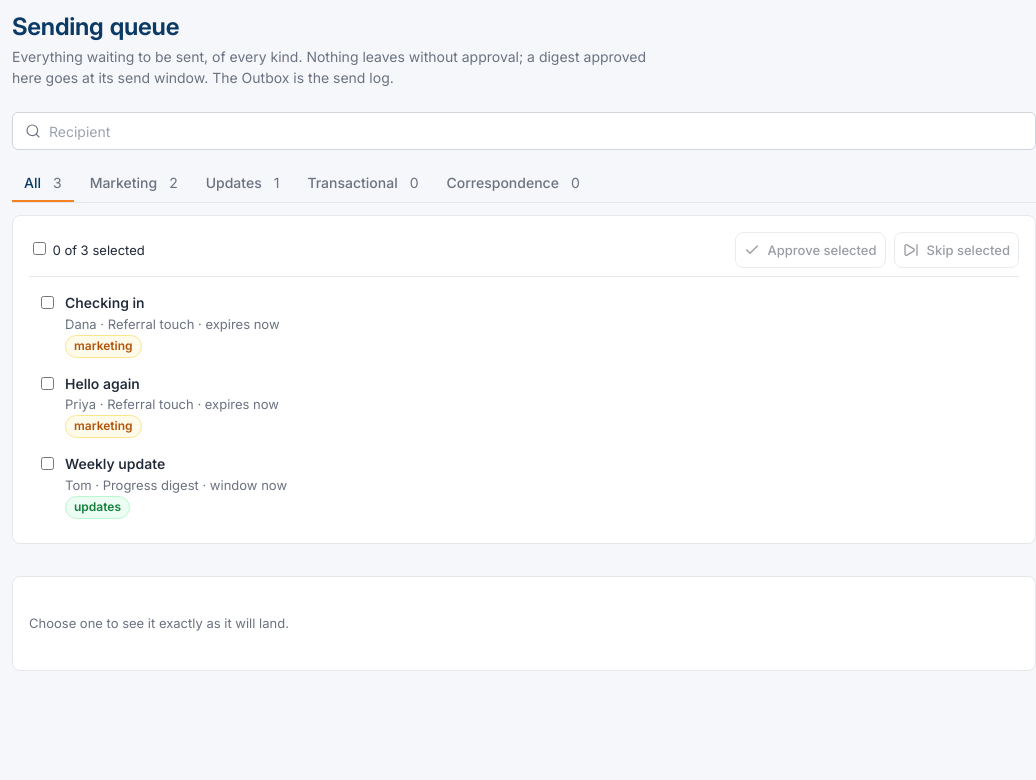
Test case: the sending queue › filters by category and approves everything selected in that view
Step 1. Click the tab "Marketing 2" → {"x": 134, "y": 184}, box [78,166,190,202]
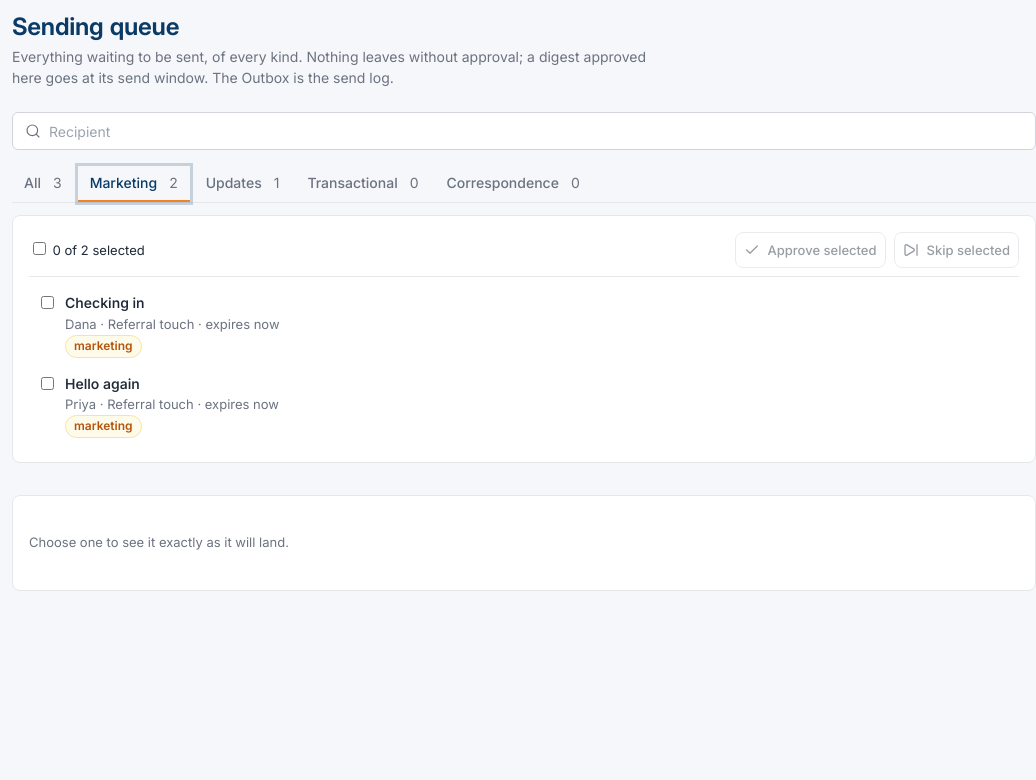
Result: the button "Weekly update" is gone
Step 2. Click the checkbox named "Select all in this view" → {"x": 40, "y": 249}, box [33,242,46,255]
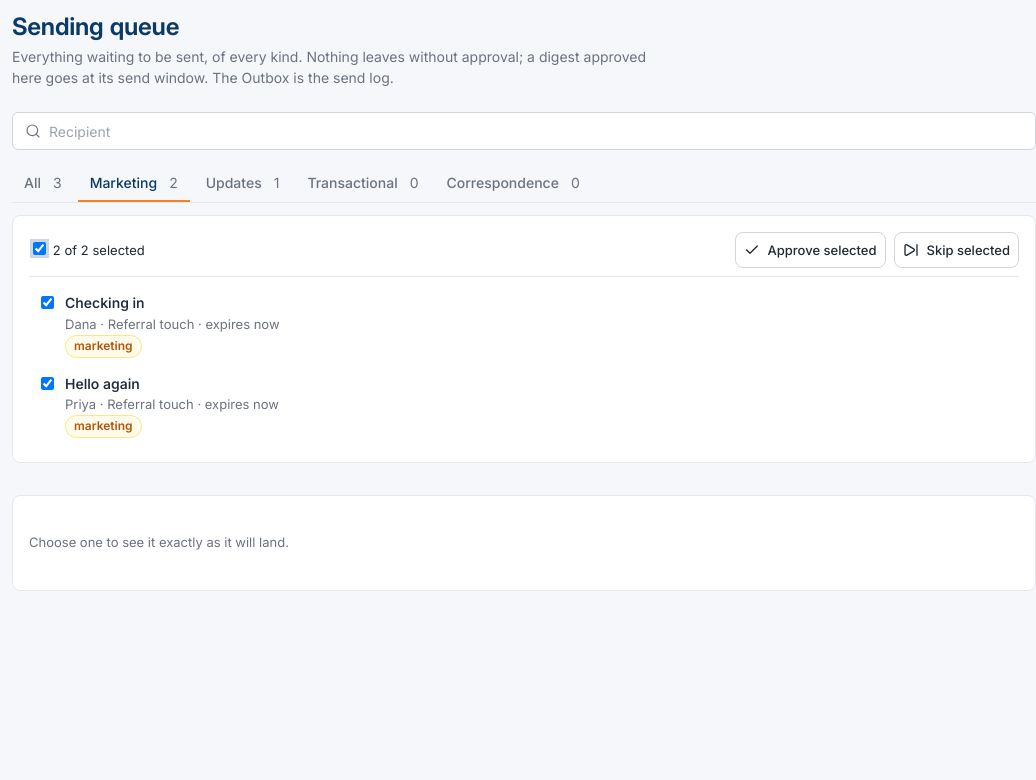
Step 3. Click the button "Approve selected" → {"x": 810, "y": 250}, box [734,232,886,268]
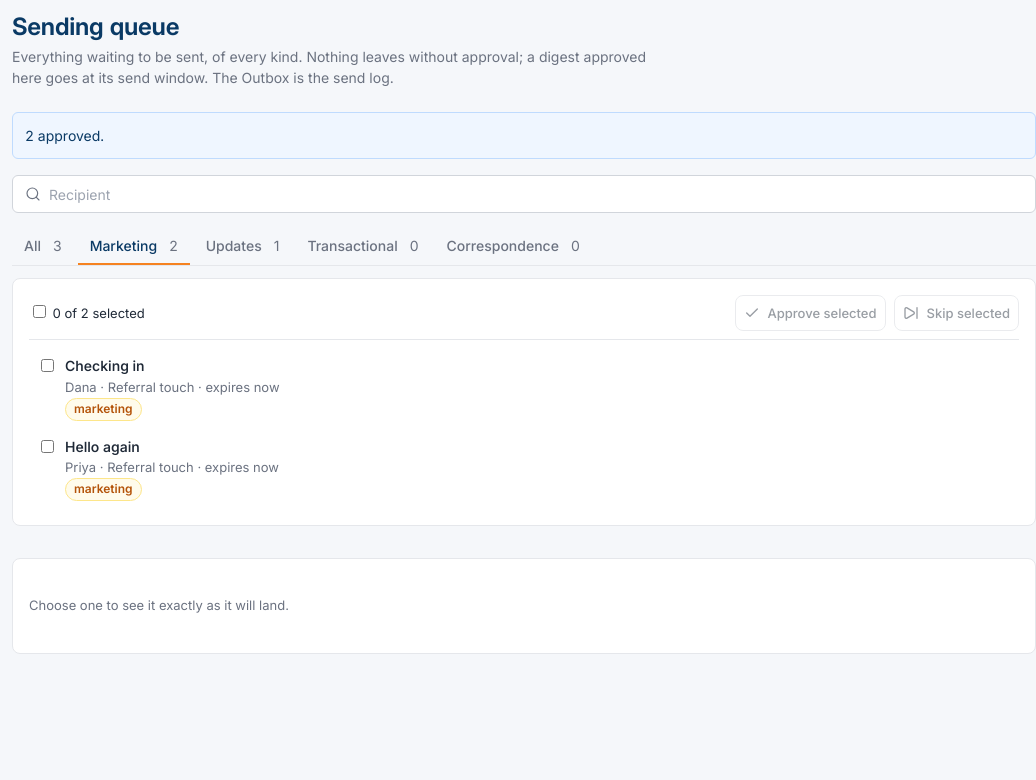
Result: the text "2 approved." is shown at [25,127,104,144]
